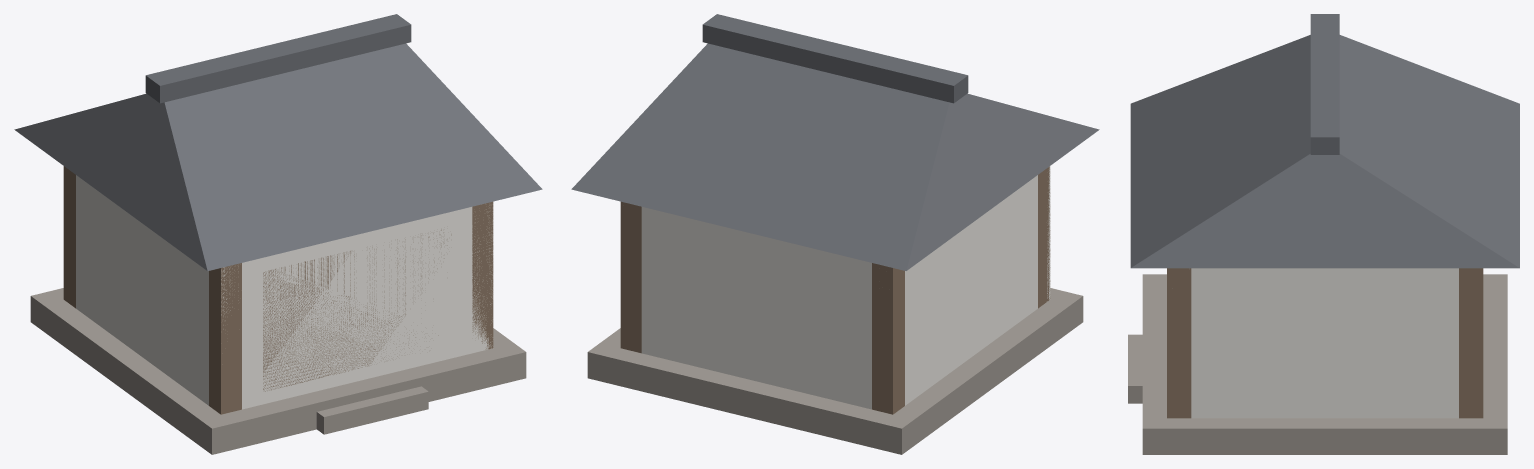
Rendered from residential_l1_machiya.glb.
3 renders of one model, left to right at view 1: azimuth 30°, elevation 25°; view 2: azimuth 150°, elevation 25°; view 3: azimuth 270°, elevation 25°, orthographic.
Visible parts, largest first — view 1: Kawara_Roof, House_Body, Stone_Base, Roof_Ridge, Front_Koushi, Corner_FL, Corner_FR, Entry_Step, Corner_BL; view 2: Kawara_Roof, House_Body, Stone_Base, Roof_Ridge, Corner_BL, Corner_BR, Corner_FL; view 3: Kawara_Roof, House_Body, Stone_Base, Roof_Ridge, Corner_BR, Corner_FR, Entry_Step.
Part boxes in pixels (<box>): Kawara_Roof: <box>14,43,542,270</box>; House_Body: <box>76,175,493,409</box>; Stone_Base: <box>30,288,526,454</box>; Roof_Ridge: <box>145,14,411,103</box>; Front_Koushi: <box>263,229,451,391</box>; Corner_FL: <box>209,263,241,414</box>; Corner_FR: <box>472,201,493,349</box>; Entry_Step: <box>316,386,428,434</box>; Corner_BL: <box>63,166,75,308</box>; Kawara_Roof: <box>571,43,1099,270</box>; House_Body: <box>641,166,1050,409</box>; Stone_Base: <box>587,288,1083,454</box>; Roof_Ridge: <box>702,14,968,103</box>; Corner_BL: <box>872,263,904,414</box>; Corner_BR: <box>620,201,641,353</box>; Corner_FL: <box>1038,166,1050,308</box>; Kawara_Roof: <box>1130,35,1519,268</box>; House_Body: <box>1191,268,1458,418</box>; Stone_Base: <box>1142,274,1507,454</box>; Roof_Ridge: <box>1310,14,1339,154</box>; Corner_BR: <box>1459,268,1483,418</box>; Corner_FR: <box>1167,268,1191,418</box>; Entry_Step: <box>1128,334,1142,403</box>.
Size of the model in its own units: 1.6 by 1.37 by 1.61.
